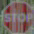Stop: (2, 0, 33, 27)
